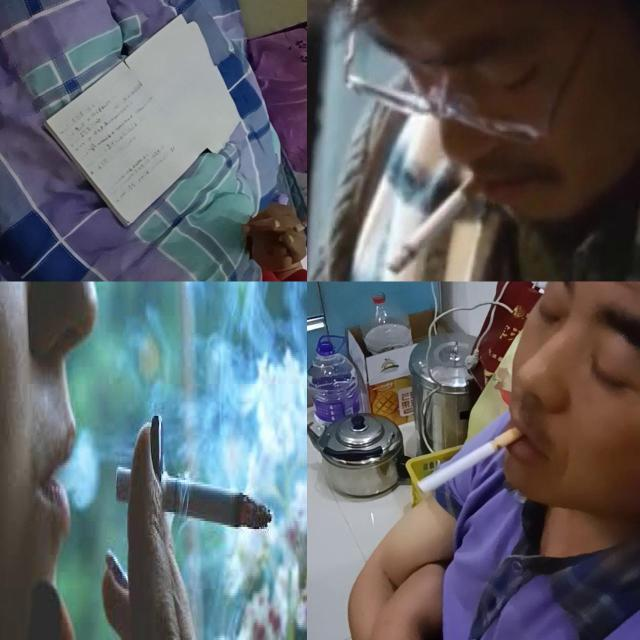smoking: (386, 164, 492, 276), (115, 464, 273, 528), (418, 427, 524, 495), (278, 220, 306, 242)
